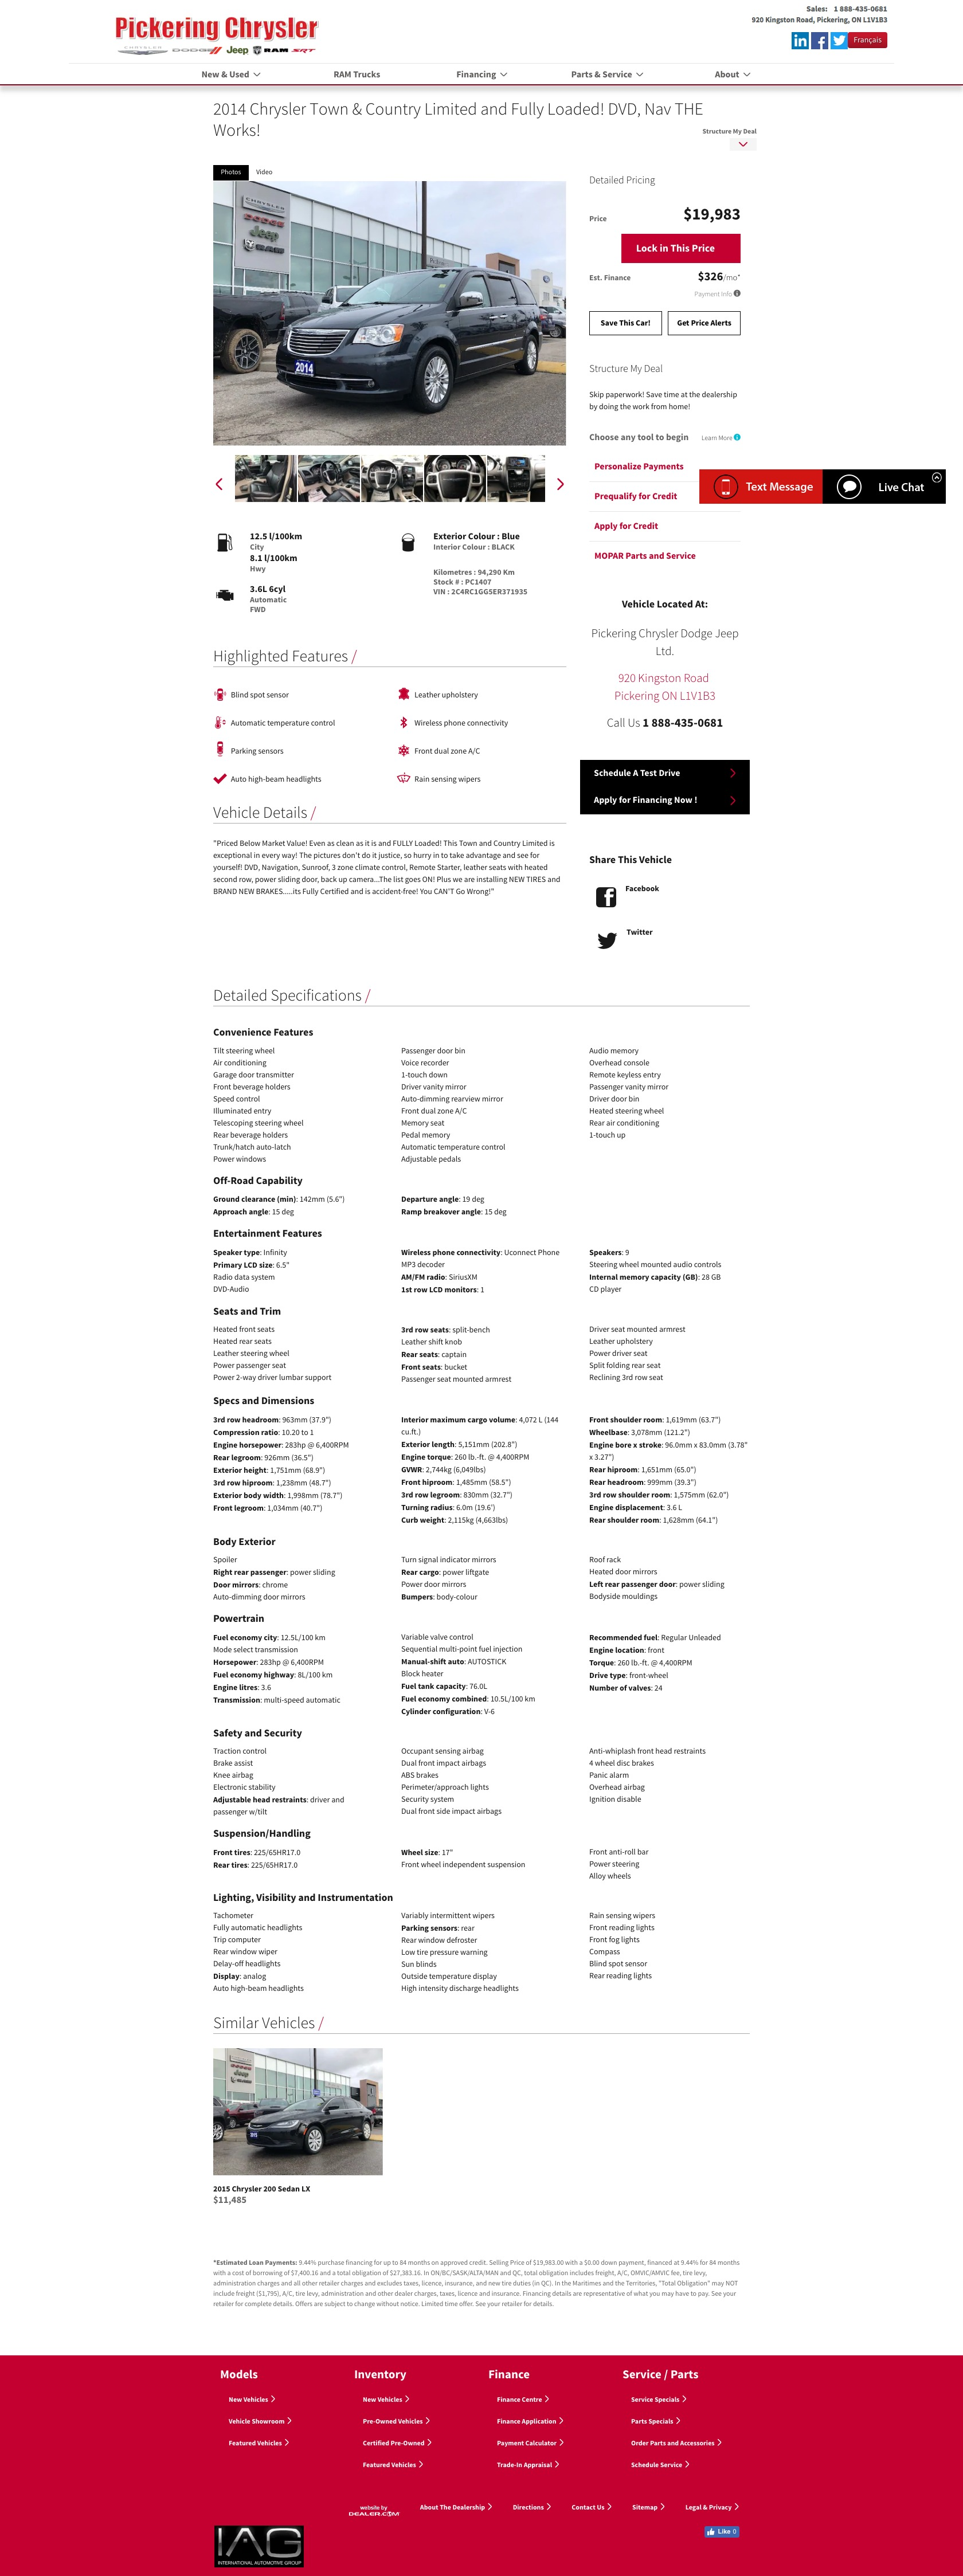car: (557, 478, 565, 491)
